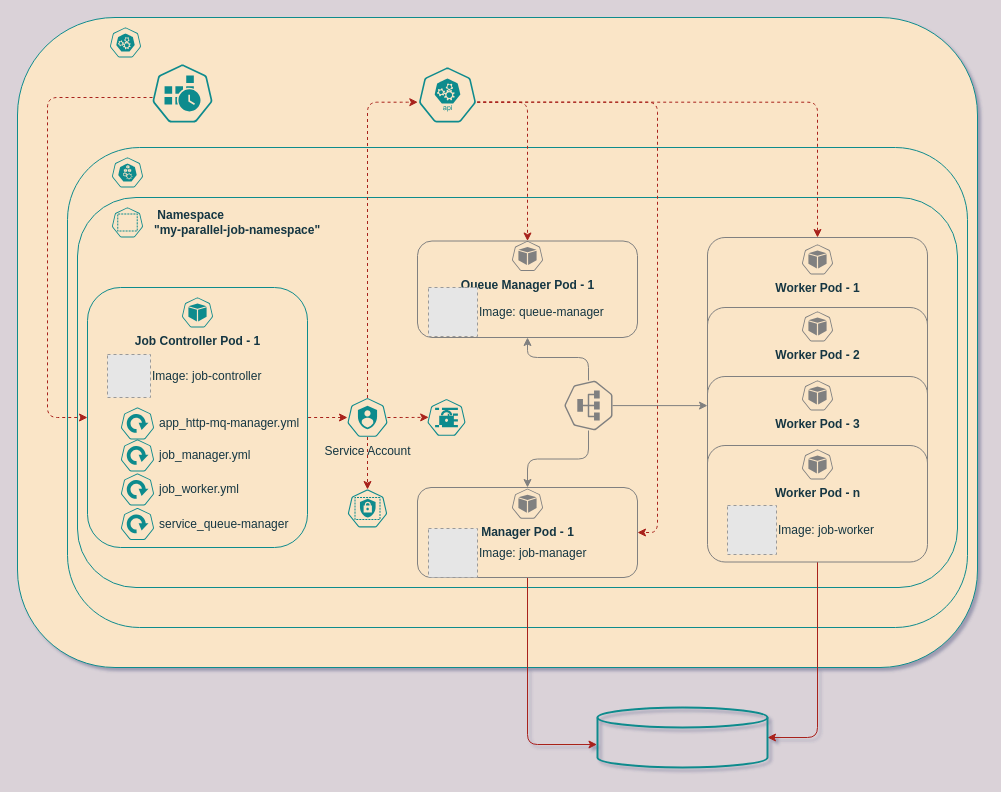
The diagram is 1001 pixels wide and 792 high, and some of its shapes have lost their labels. Grey dashed boxes stand in for pictures. Here are the shapes that lost their labels. From the top down, the centre of each, then its label:
At (x=125, y=42): "Kubernetes Cluster".
At (x=182, y=93): "Scheduler".
At (x=447, y=94): "Kubernetes API".
At (x=127, y=172): "Node".
At (x=446, y=417): "Secret".
At (x=588, y=405): "Queue Manager Service".
At (x=367, y=508): "Role".
At (x=682, y=737): "Data Store".
